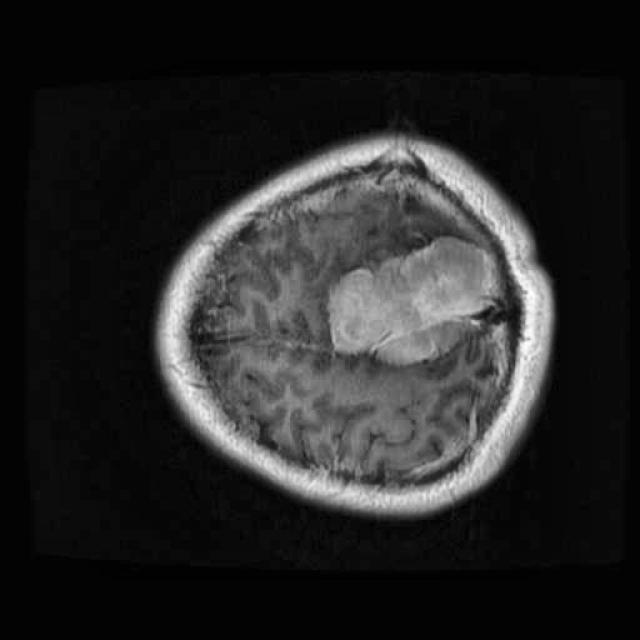Tumor: (319, 223, 506, 379)
